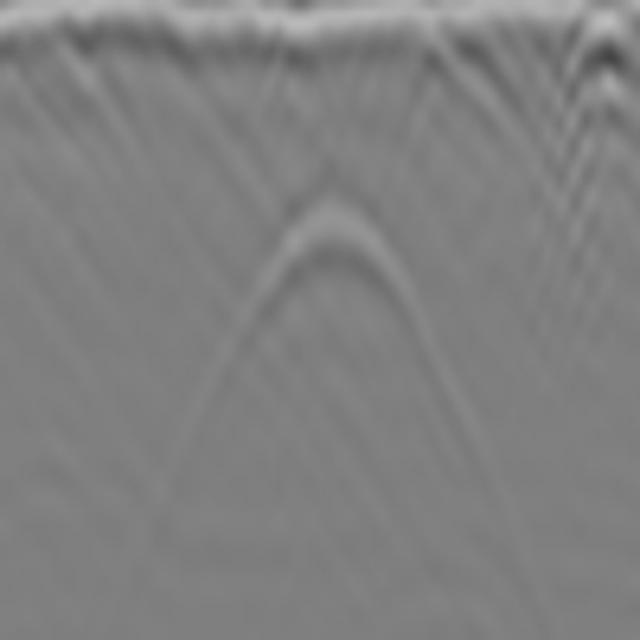hyperbola: (210, 181, 442, 406)
